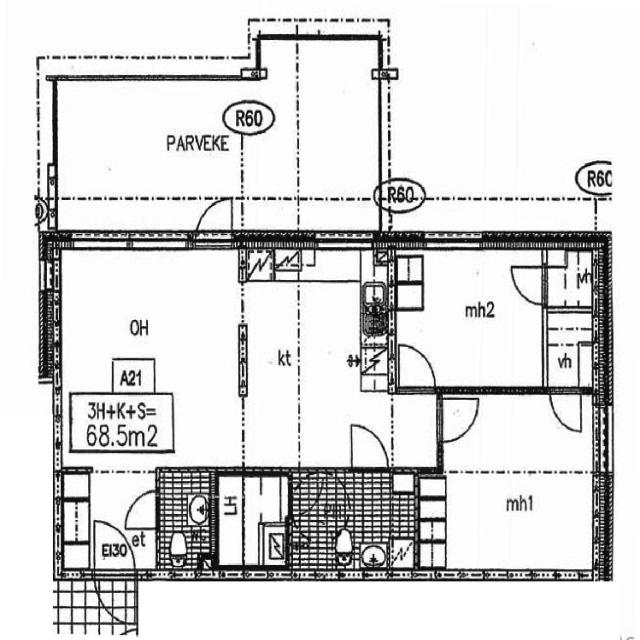door: (397, 342, 439, 391), (439, 395, 480, 444), (350, 422, 390, 468), (195, 195, 232, 236), (510, 265, 546, 307), (550, 390, 583, 435), (124, 488, 158, 530)
zone: (396, 248, 545, 389), (289, 38, 381, 210), (215, 474, 283, 570), (65, 392, 173, 452), (157, 468, 214, 562), (290, 500, 352, 571), (548, 252, 597, 309), (547, 343, 594, 389), (439, 396, 480, 442), (546, 309, 594, 344), (386, 178, 427, 214), (258, 520, 288, 568), (544, 264, 570, 309), (389, 539, 417, 571)
